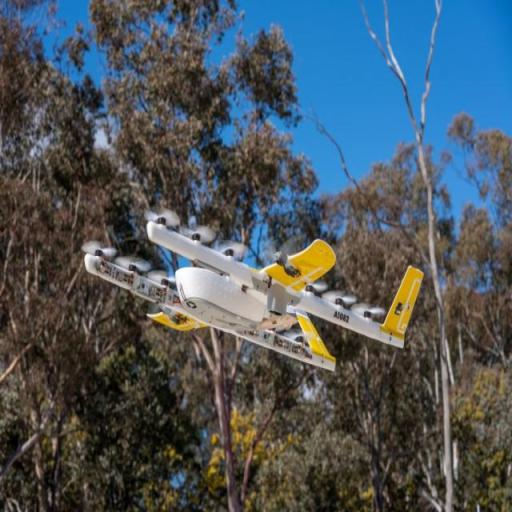uav: (78, 204, 426, 380)
